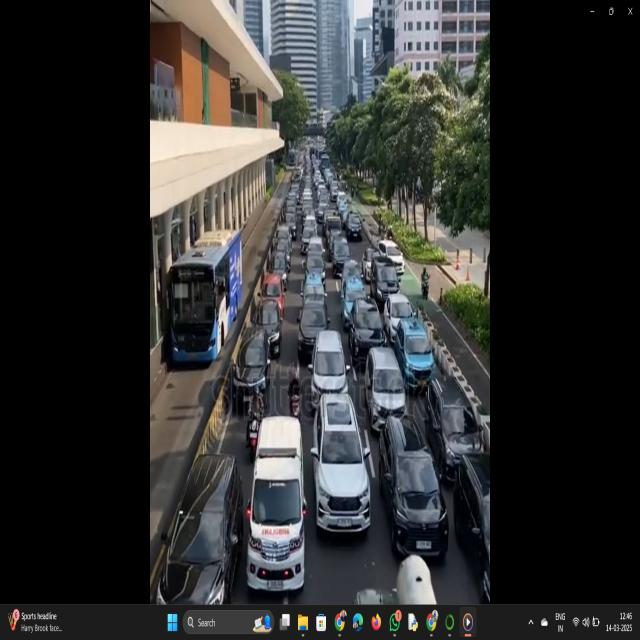Ambulance: (246, 415, 308, 600)
